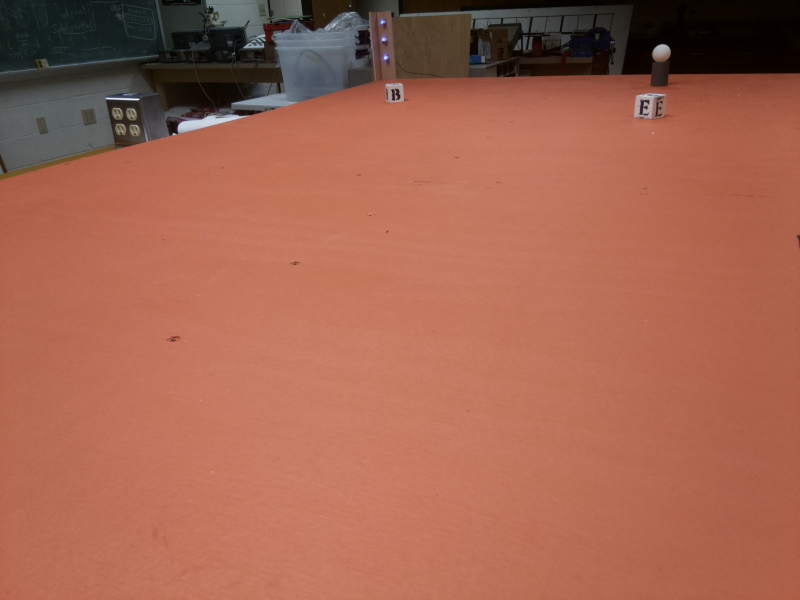blockB: (383, 82, 405, 106)
blockE: (634, 92, 665, 122)
corner: (366, 13, 400, 80)
obstacle: (649, 42, 674, 88)
